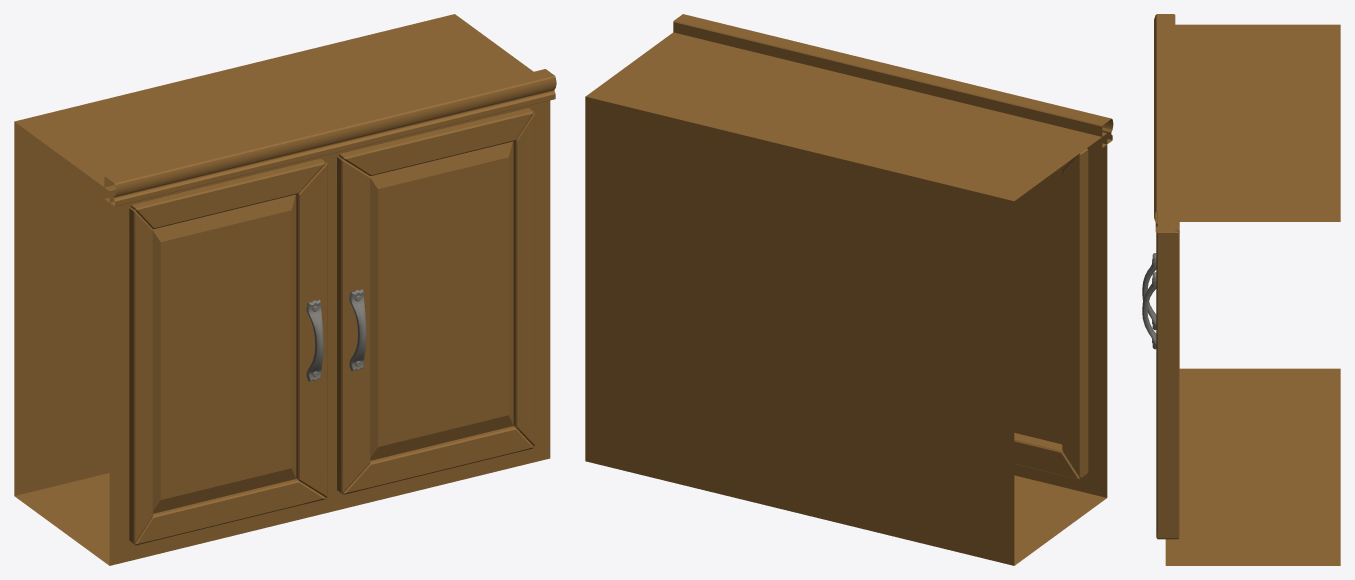
Rendered from Cabinet_2M.fbx.
3 renders of one model, left to right at view 1: azimuth 30°, elevation 25°; view 2: azimuth 150°, elevation 25°; view 3: azimuth 270°, elevation 25°, orthographic. The views are drawn at different scales.
Visible parts, largest first — view 1: Cabinet_2M; view 2: Cabinet_2M; view 3: Cabinet_2M.
Boxes of the visible parts, x1=… form: Cabinet_2M: x1=14, y1=14, x2=556, y2=565; Cabinet_2M: x1=585, y1=14, x2=1113, y2=565; Cabinet_2M: x1=1142, y1=14, x2=1340, y2=565.
Size of the model in its own units: 2 by 1.68 by 0.8505.
